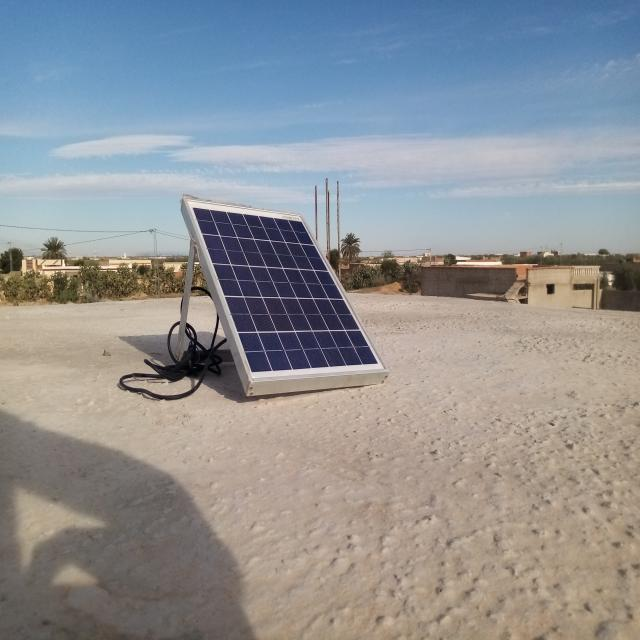no faulty: (185, 198, 388, 383)
